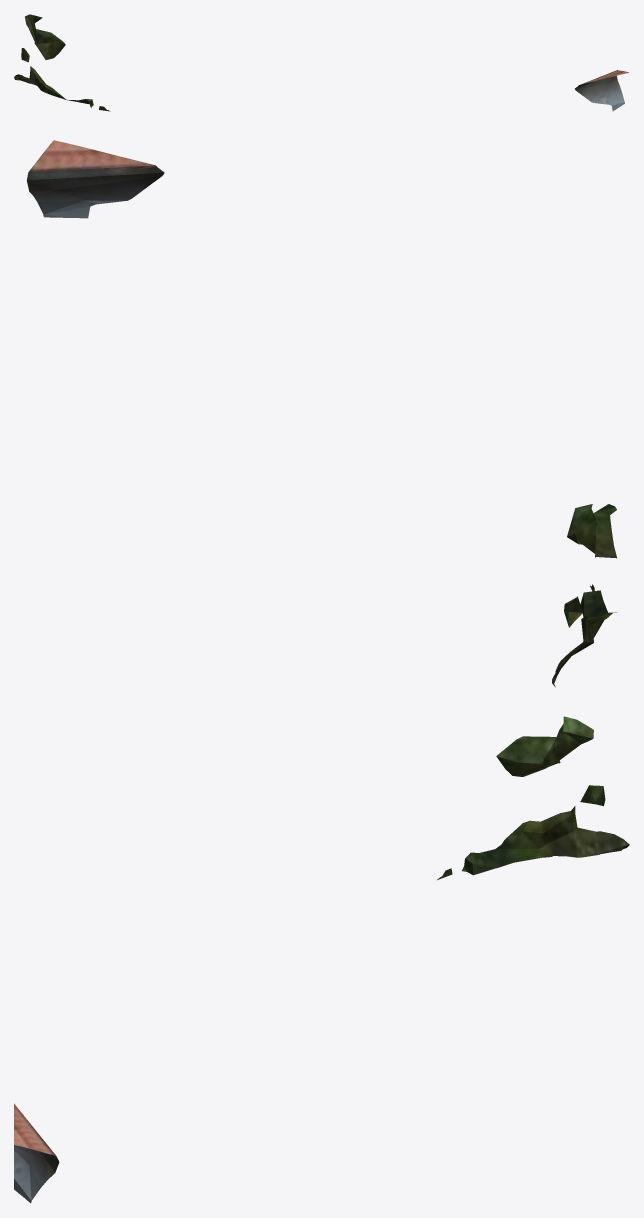
3 renders of one model, top to bottom at view 1: azimuth 30°, elevation 25°; view 2: azimuth 150°, elevation 25°; view 3: azimuth 270°, elevation 25°, orthographic. The views are drawn at different scales.
Bounding box in the file's own units: 13.4 × 2.32 × 9.81.
Materials: 1 (1 with a texture image).
